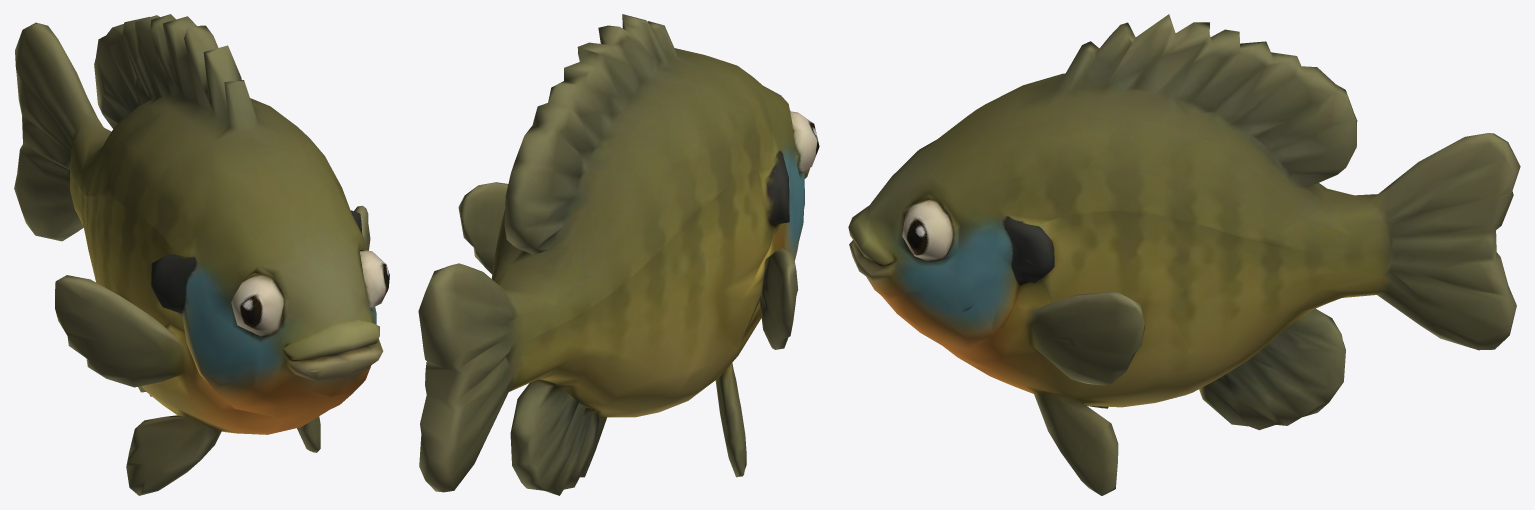
The model's file is fish-bluegill.glb.
The picture shows the model from 3 angles, left to right: view 1: azimuth 30°, elevation 25°; view 2: azimuth 150°, elevation 25°; view 3: azimuth 270°, elevation 25°; orthographic projection. The views are drawn at different scales.
Visible parts, largest first — view 1: tripo_node_c2a26750-ffc7-43a5-a997-4fddc731f3d9; view 2: tripo_node_c2a26750-ffc7-43a5-a997-4fddc731f3d9; view 3: tripo_node_c2a26750-ffc7-43a5-a997-4fddc731f3d9.
Part boxes in pixels (left/top/right/bottom): tripo_node_c2a26750-ffc7-43a5-a997-4fddc731f3d9: left=14, top=14, right=389, bottom=495; tripo_node_c2a26750-ffc7-43a5-a997-4fddc731f3d9: left=418, top=14, right=819, bottom=495; tripo_node_c2a26750-ffc7-43a5-a997-4fddc731f3d9: left=848, top=14, right=1520, bottom=495.
Size of the model in its own units: 0.5474 by 0.7144 by 1.
Materials: 1 (1 with a texture image).
